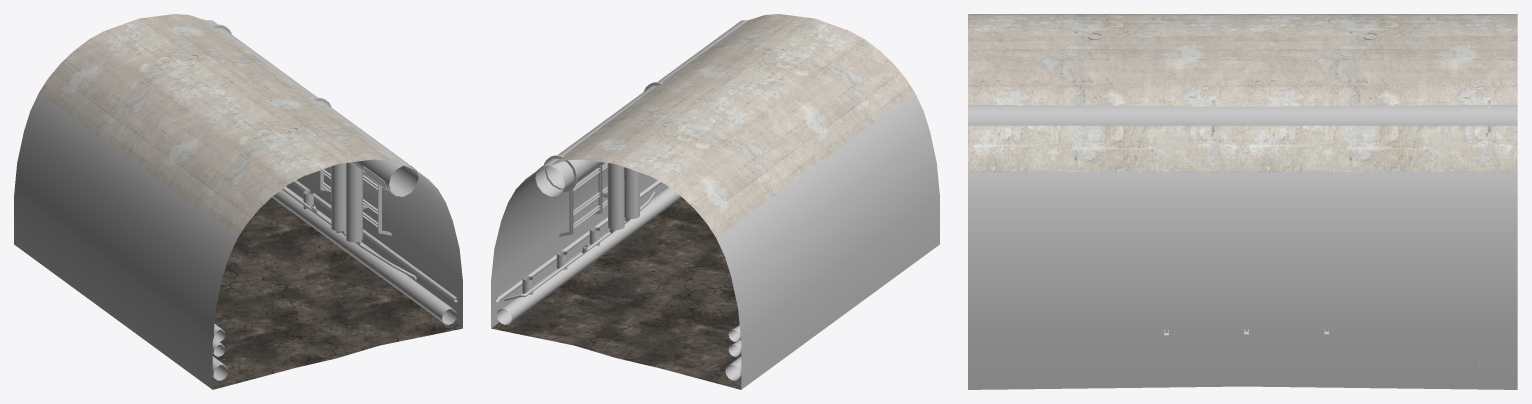
The model's file is Corridor_wall_2x.FBX.
3 renders of one model, left to right at view 1: azimuth 30°, elevation 25°; view 2: azimuth 150°, elevation 25°; view 3: azimuth 270°, elevation 25°, orthographic. The views are drawn at different scales.
Visible parts, largest first — view 1: Corridor_wall_2x, Corridor_floor_2x, Tube_C, Propan, Tube_big_002, Tube_paint004, C_metal_plank011; view 2: Corridor_wall_2x, Corridor_floor_2x, Tube_C, Tube_big_002, Propan, C_metal_plank011, Tube_paint004; view 3: Corridor_wall_2x, Tube_big_002.
Boxes of the visible parts, x1=… form: Corridor_wall_2x: x1=14, y1=14, x2=462, y2=389; Corridor_floor_2x: x1=212, y1=197, x2=462, y2=389; Tube_C: x1=272, y1=186, x2=457, y2=324; Propan: x1=282, y1=162, x2=417, y2=279; Tube_big_002: x1=205, y1=20, x2=418, y2=196; Tube_paint004: x1=292, y1=180, x2=458, y2=302; C_metal_plank011: x1=320, y1=169, x2=391, y2=235; Corridor_wall_2x: x1=491, y1=14, x2=939, y2=389; Corridor_floor_2x: x1=491, y1=197, x2=741, y2=389; Tube_C: x1=496, y1=186, x2=681, y2=324; Tube_big_002: x1=535, y1=20, x2=748, y2=196; Propan: x1=504, y1=163, x2=655, y2=300; C_metal_plank011: x1=559, y1=163, x2=607, y2=236; Tube_paint004: x1=495, y1=180, x2=661, y2=302; Corridor_wall_2x: x1=968, y1=14, x2=1517, y2=389; Tube_big_002: x1=968, y1=100, x2=1517, y2=132.
Size of the model in its own units: 504 by 374 by 689.
